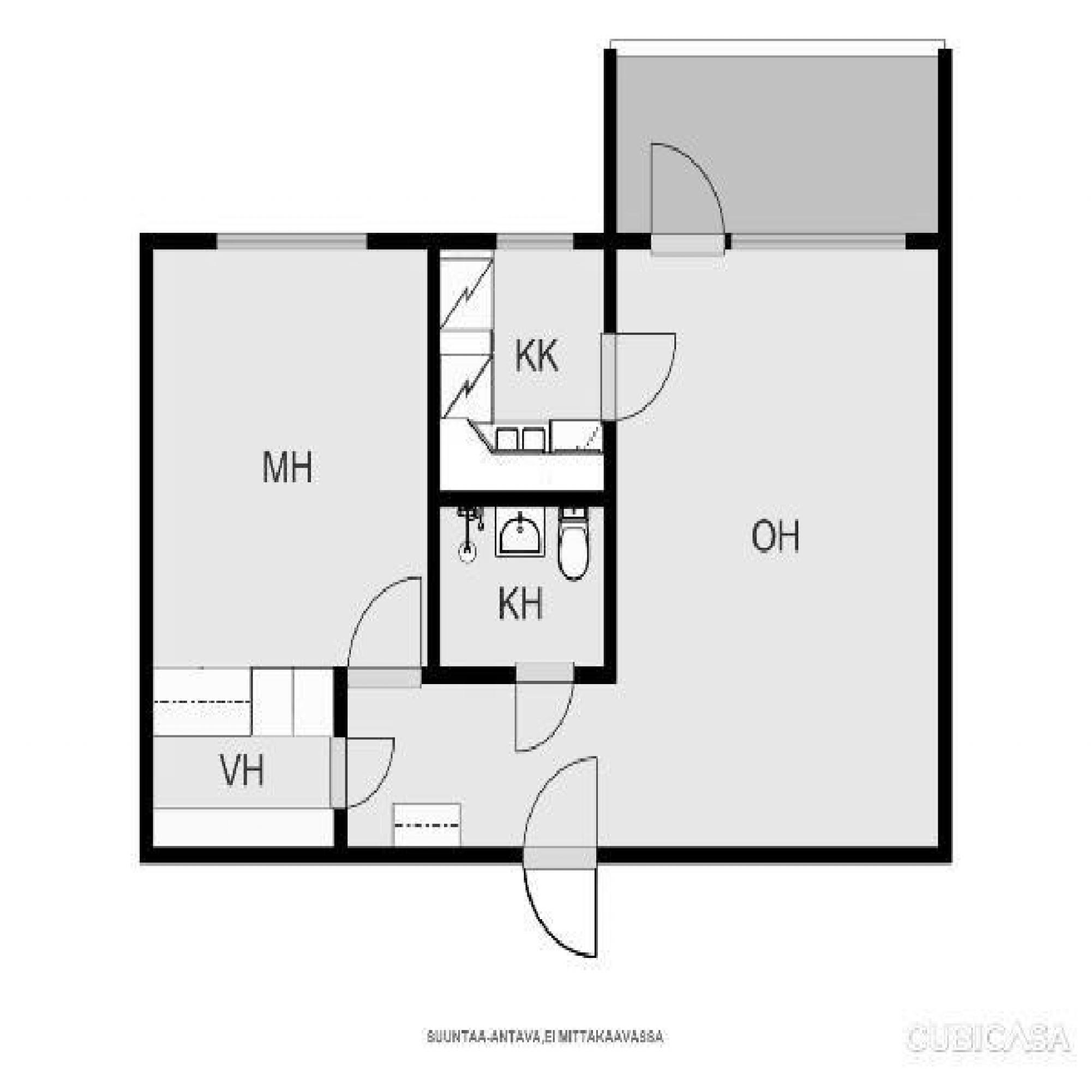wall: (140, 233, 953, 250), (140, 846, 953, 863), (940, 233, 953, 862), (140, 233, 153, 862), (604, 233, 617, 684), (427, 233, 440, 684), (335, 668, 617, 684), (428, 490, 617, 507), (940, 38, 953, 233), (604, 38, 617, 233), (335, 668, 347, 863)
